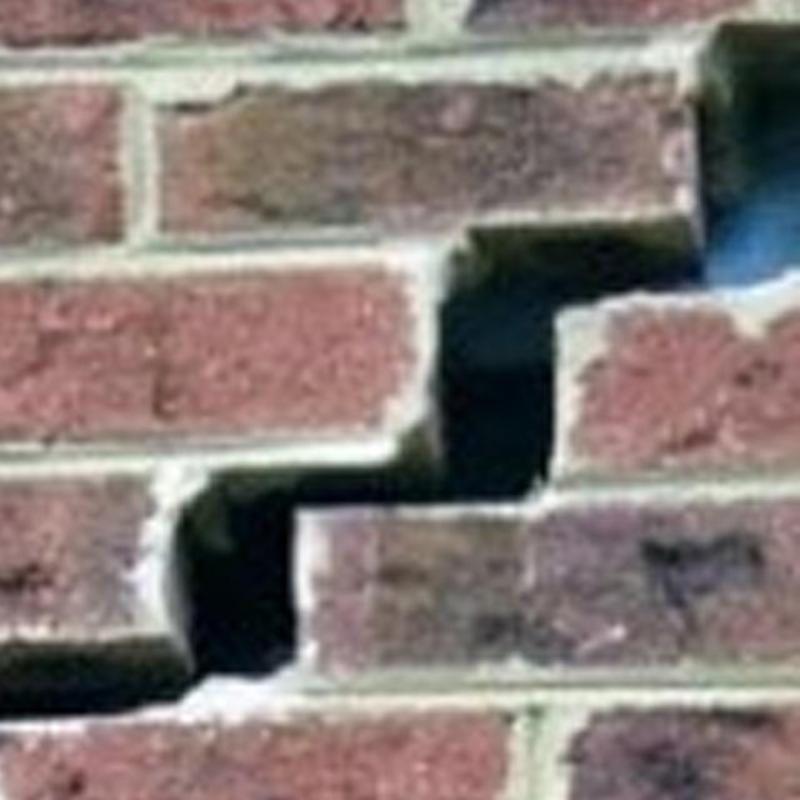crack: (0, 25, 800, 715)
